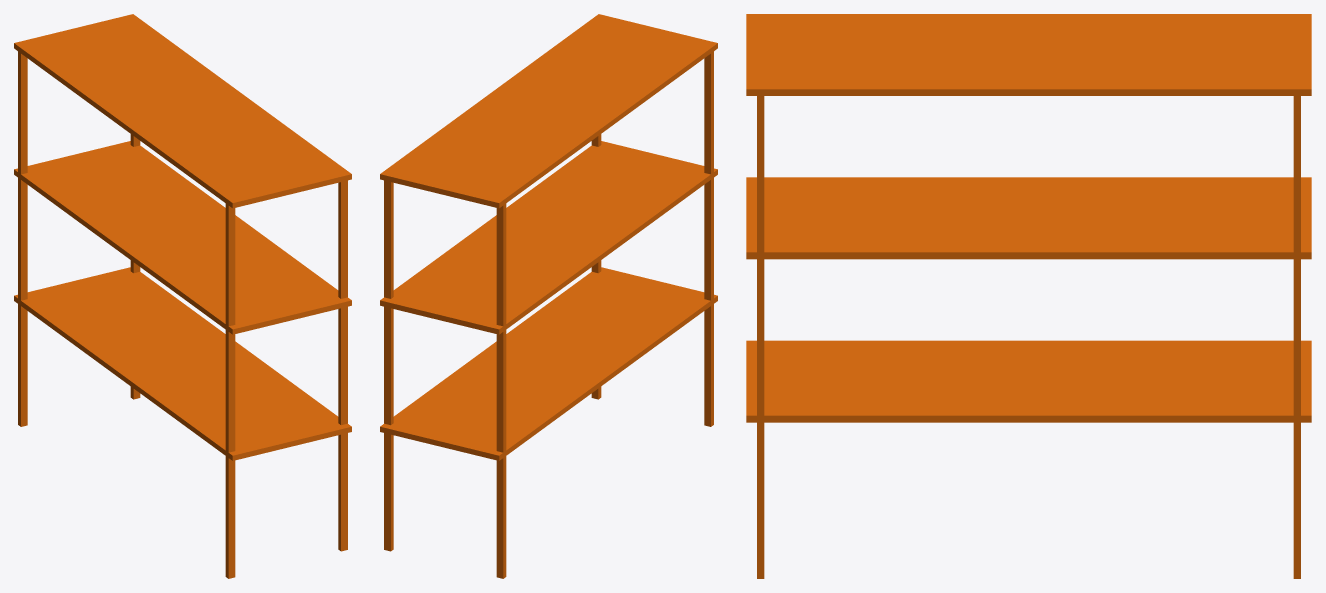
Rendered from rack1.fbx.
The picture shows the model from 3 angles, left to right: view 1: azimuth 30°, elevation 25°; view 2: azimuth 150°, elevation 25°; view 3: azimuth 270°, elevation 25°; orthographic projection. The views are drawn at different scales.
Visible parts, largest first — view 1: Rack; view 2: Rack; view 3: Rack.
Part boxes in pixels (box(x1,y1,x2,y2)): Rack: box(14, 14, 351, 578); Rack: box(380, 14, 717, 578); Rack: box(746, 14, 1311, 578).
Size of the model in its own units: 142 by 430 by 450.
